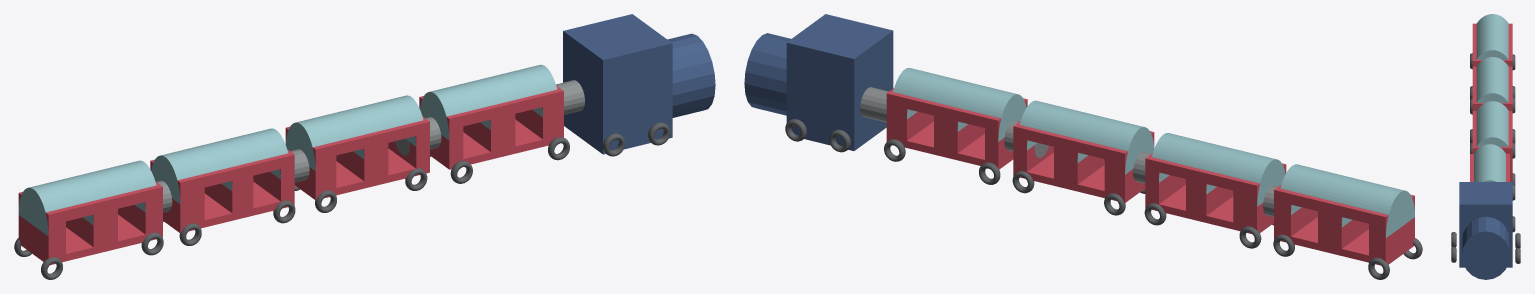
Rendered from Smashing Kieran.glb.
3 renders of one model, left to right at view 1: azimuth 30°, elevation 25°; view 2: azimuth 150°, elevation 25°; view 3: azimuth 270°, elevation 25°, orthographic. The views are drawn at different scales.
Parts seen in each view (by area): view 1: Mesh_Mesh_head_geo.001_lambert2SG.001; view 2: Mesh_Mesh_head_geo.001_lambert2SG.001; view 3: Mesh_Mesh_head_geo.001_lambert2SG.001.
Part boxes in pixels (left/top/right/bottom): Mesh_Mesh_head_geo.001_lambert2SG.001: left=14, top=14, right=715, bottom=279; Mesh_Mesh_head_geo.001_lambert2SG.001: left=744, top=14, right=1422, bottom=279; Mesh_Mesh_head_geo.001_lambert2SG.001: left=1451, top=14, right=1520, bottom=279.
Bounding box in the file's own units: 192 × 26 × 26.
